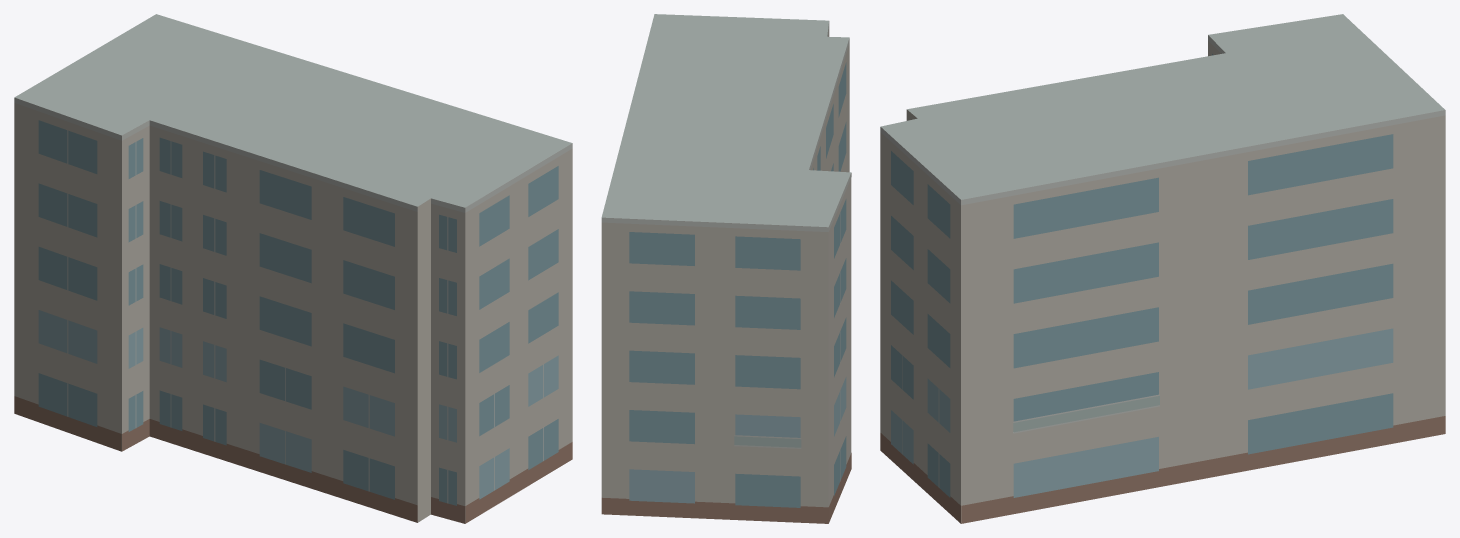
The model's file is survey-upis-32997302.glb.
3 views of the same model, side by side, from view 1: azimuth 30°, elevation 25°; view 2: azimuth 150°, elevation 25°; view 3: azimuth 270°, elevation 25° (orthographic). The views are drawn at different scales.
Parts seen in each view (by area): view 1: survey-upis-32997302.tmp; view 2: survey-upis-32997302.tmp; view 3: survey-upis-32997302.tmp.
Boxes of the visible parts, x1,y1,x2,y2 form: survey-upis-32997302.tmp: (14, 14, 572, 523); survey-upis-32997302.tmp: (601, 14, 851, 523); survey-upis-32997302.tmp: (880, 14, 1445, 523).
Size of the model in its own units: 17.99 by 14.6 by 23.09.
